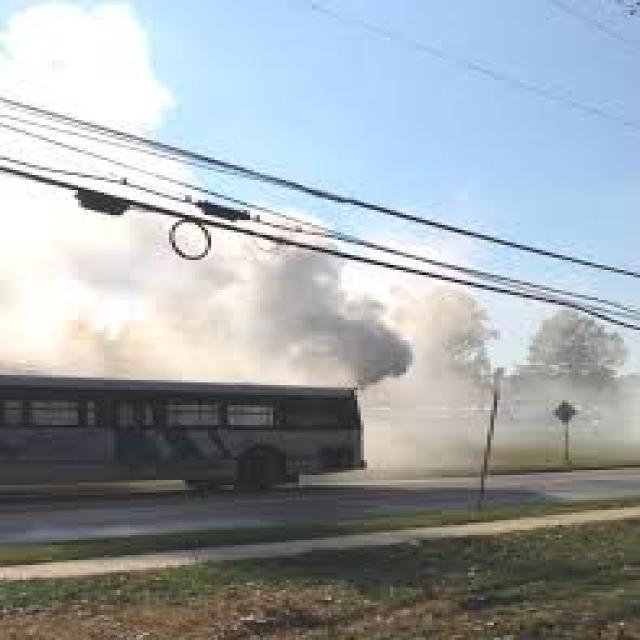Smoke: (2, 225, 498, 464)
